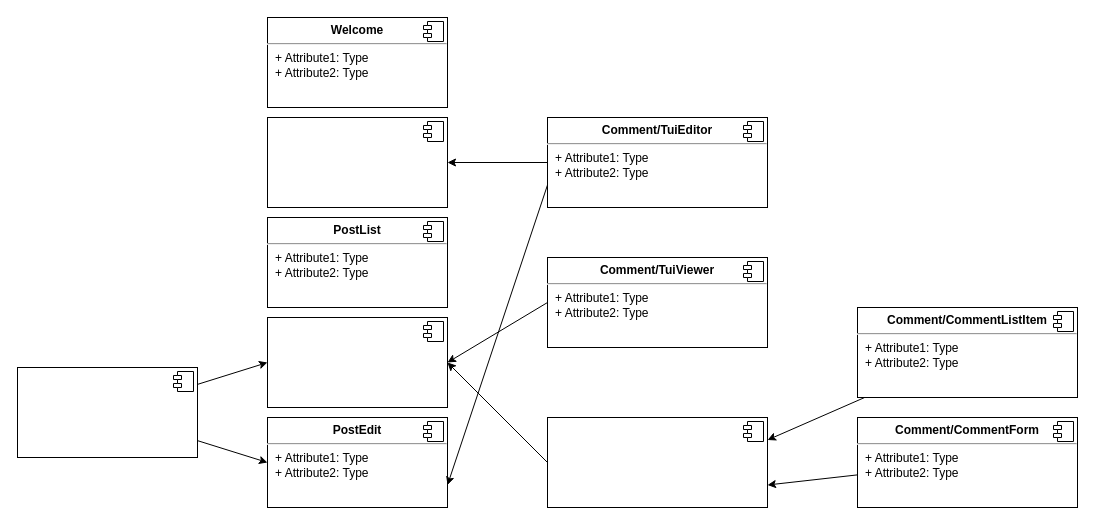
Some shapes in this 1095 by 525 pixel diagram are drawn without their labels. The centre of each missing label's shape, as x and y in pixels:
"Comment/CommentList + Attribute1: Type + Attribute2: Type" goes at (x=657, y=462).
"PasswordConfirm + Attribute1: Type + Attribute2: Type" goes at (x=107, y=412).
"PostForm + Attribute1: Type + Attribute2: Type" goes at (x=357, y=162).
"PostView + Attribute1: Type + Attribute2: Type" goes at (x=357, y=362).
